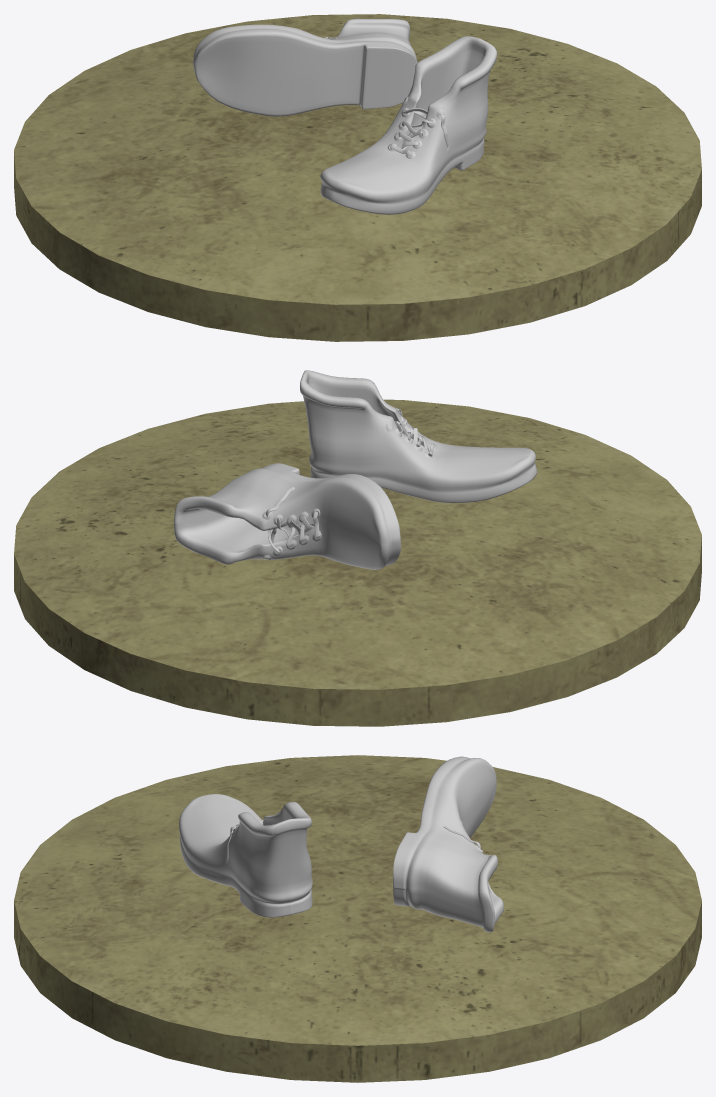
The model's file is Botas Viejas.fbx.
3 renders of one model, top to bottom at view 1: azimuth 30°, elevation 25°; view 2: azimuth 150°, elevation 25°; view 3: azimuth 270°, elevation 25°, orthographic.
Parts seen in each view (by area): view 1: Base, Bota.001, Bota, Cordon; view 2: Base, Bota.001, Bota, Cordon.001, Botones.001; view 3: Base, Bota.001, Bota.
Boxes of the visible parts, <box> form: Base: <box>14,14,701,341</box>; Bota.001: <box>193,18,417,116</box>; Bota: <box>320,36,497,214</box>; Cordon: <box>390,108,450,156</box>; Base: <box>14,399,701,726</box>; Bota.001: <box>174,463,400,569</box>; Bota: <box>300,370,537,503</box>; Cordon.001: <box>265,486,319,553</box>; Botones.001: <box>261,508,321,559</box>; Base: <box>14,755,701,1082</box>; Bota.001: <box>393,756,503,932</box>; Bota: <box>179,794,312,917</box>.
Bounding box in the file's own units: 28.89 × 7.45 × 28.89.
